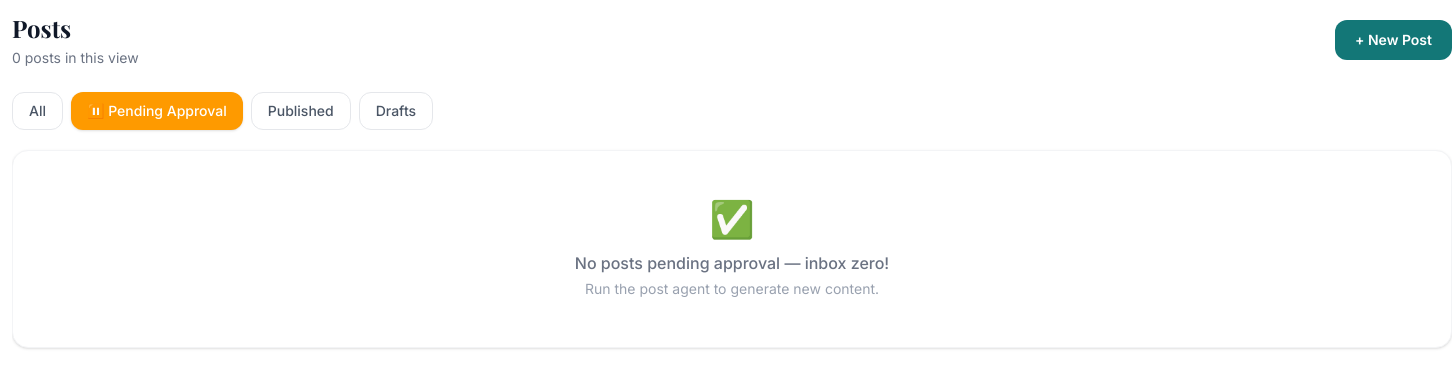
Scenario: Posts (admin) › switches filters and reloads
The width and height of the screenshot is (1452, 366).
Click the button "Published".
click(301, 111)  # box [251, 92, 351, 130]
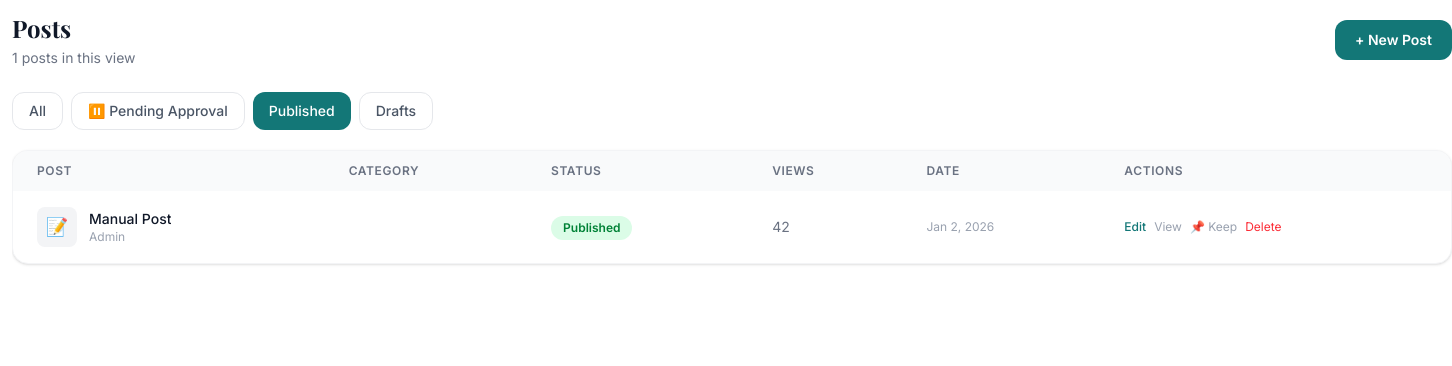
Check: the text "Manual Post" is shown, box [89, 209, 171, 229]
